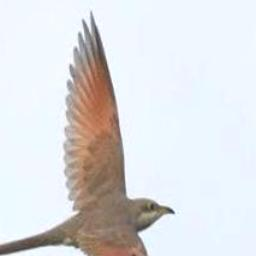Cuckoo: (0, 11, 175, 256)
